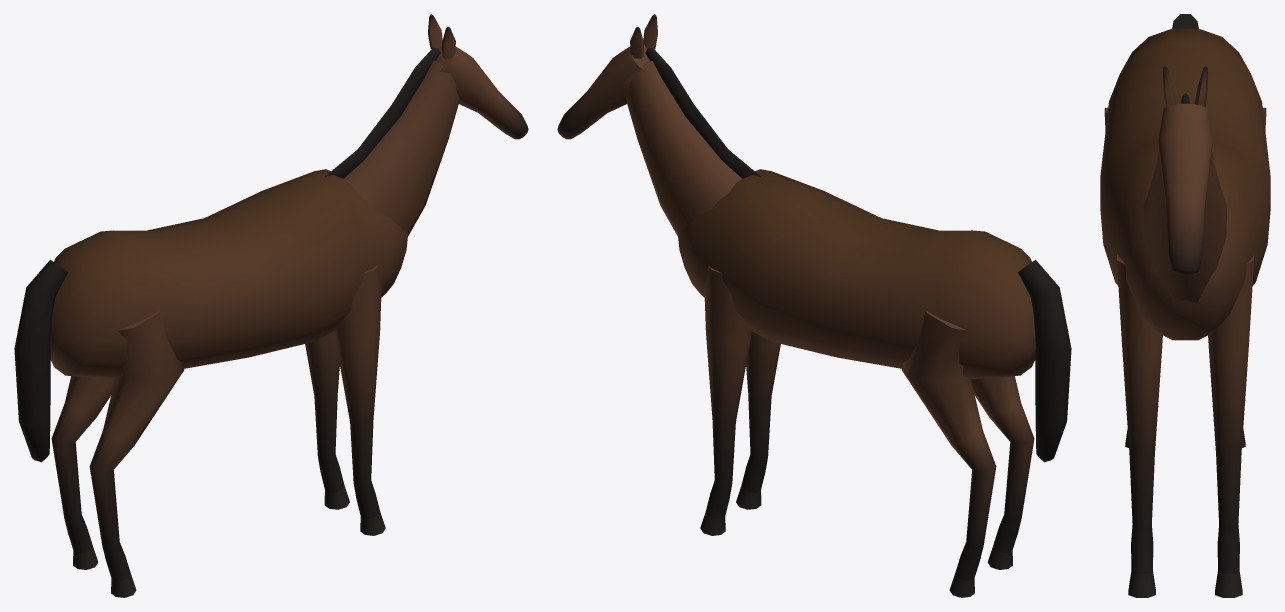
File: actor-horse.glb
The picture shows the model from 3 angles, left to right: view 1: azimuth 30°, elevation 25°; view 2: azimuth 150°, elevation 25°; view 3: azimuth 270°, elevation 25°; orthographic projection. The views are drawn at different scales.
Visible parts, largest first — view 1: body, head, leg_br, leg_fr, leg_bl, leg_fl; view 2: body, head, leg_bl, leg_fl, leg_br, leg_fr; view 3: body, head, leg_fr, leg_fl.
Boxes of the visible parts, left/top/right/bottom form: body: left=14, top=169, right=407, bottom=462; head: left=325, top=14, right=528, bottom=236; leg_br: left=89, top=310, right=184, bottom=597; leg_fr: left=334, top=265, right=385, bottom=535; leg_bl: left=51, top=376, right=114, bottom=569; leg_fl: left=305, top=331, right=349, bottom=509; body: left=678, top=169, right=1071, bottom=462; head: left=557, top=14, right=760, bottom=236; leg_bl: left=901, top=310, right=996, bottom=597; leg_fl: left=700, top=266, right=751, bottom=535; leg_br: left=971, top=376, right=1034, bottom=569; leg_fr: left=736, top=331, right=780, bottom=509; body: left=1100, top=14, right=1270, bottom=340; head: left=1143, top=66, right=1227, bottom=303; leg_fr: left=1117, top=255, right=1162, bottom=597; leg_fl: left=1208, top=255, right=1253, bottom=597.
Size of the model in its own units: 2.47 by 2.21 by 0.5893.
